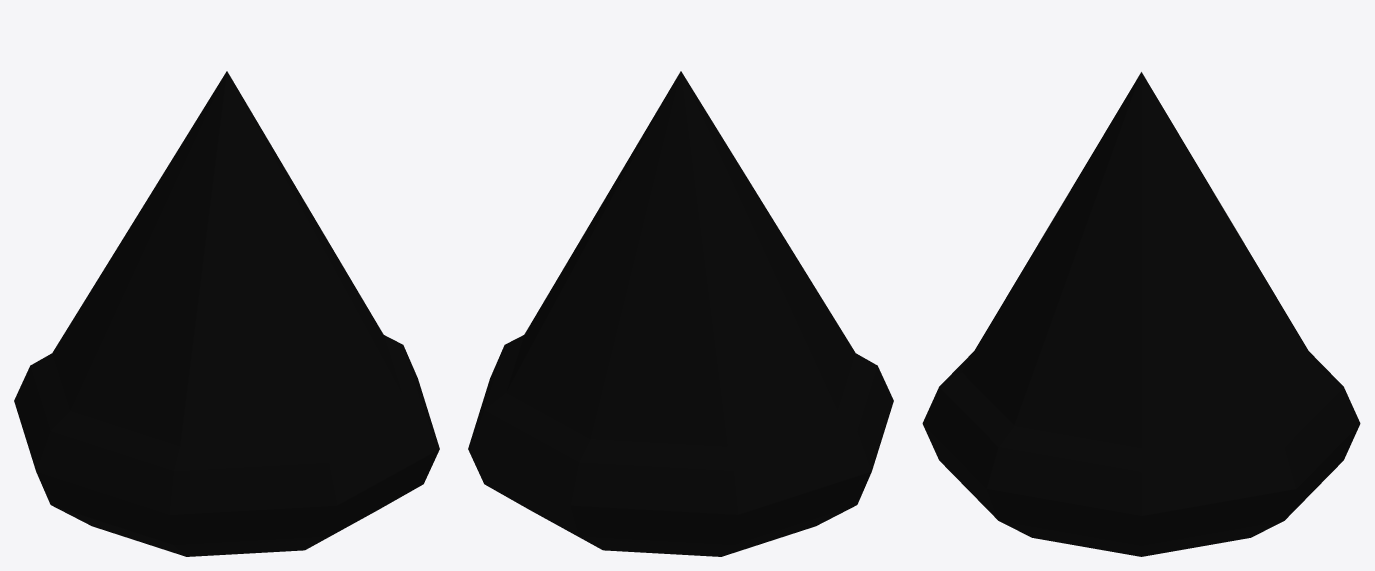
The model's file is WhetstoneOil.glb.
The picture shows the model from 3 angles, left to right: view 1: azimuth 30°, elevation 25°; view 2: azimuth 150°, elevation 25°; view 3: azimuth 270°, elevation 25°; orthographic projection.
Visible parts, largest first — view 1: Item; view 2: Item; view 3: Item.
Boxes of the visible parts, x1,y1,x2,y2 form: Item: (14,71,439,556); Item: (468,71,893,556); Item: (922,72,1360,556).
Bounding box in the file's own units: 1.45 × 1.71 × 1.45.
4 materials, 4 textured.
